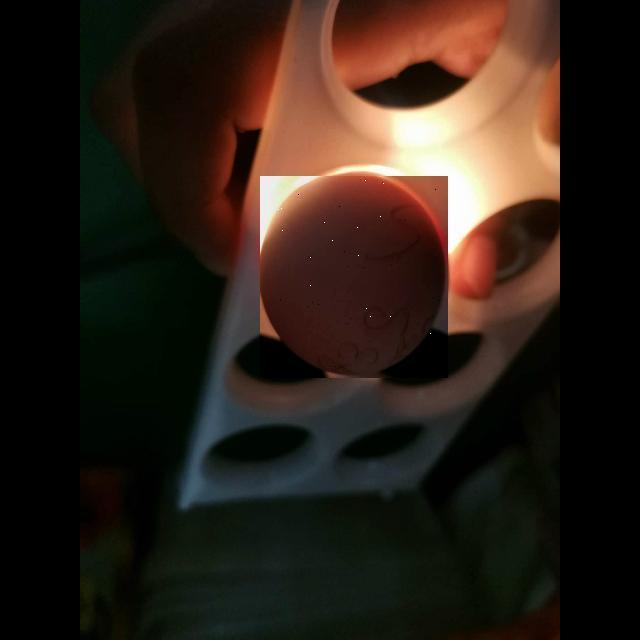A - Good: (259, 171, 449, 380)
